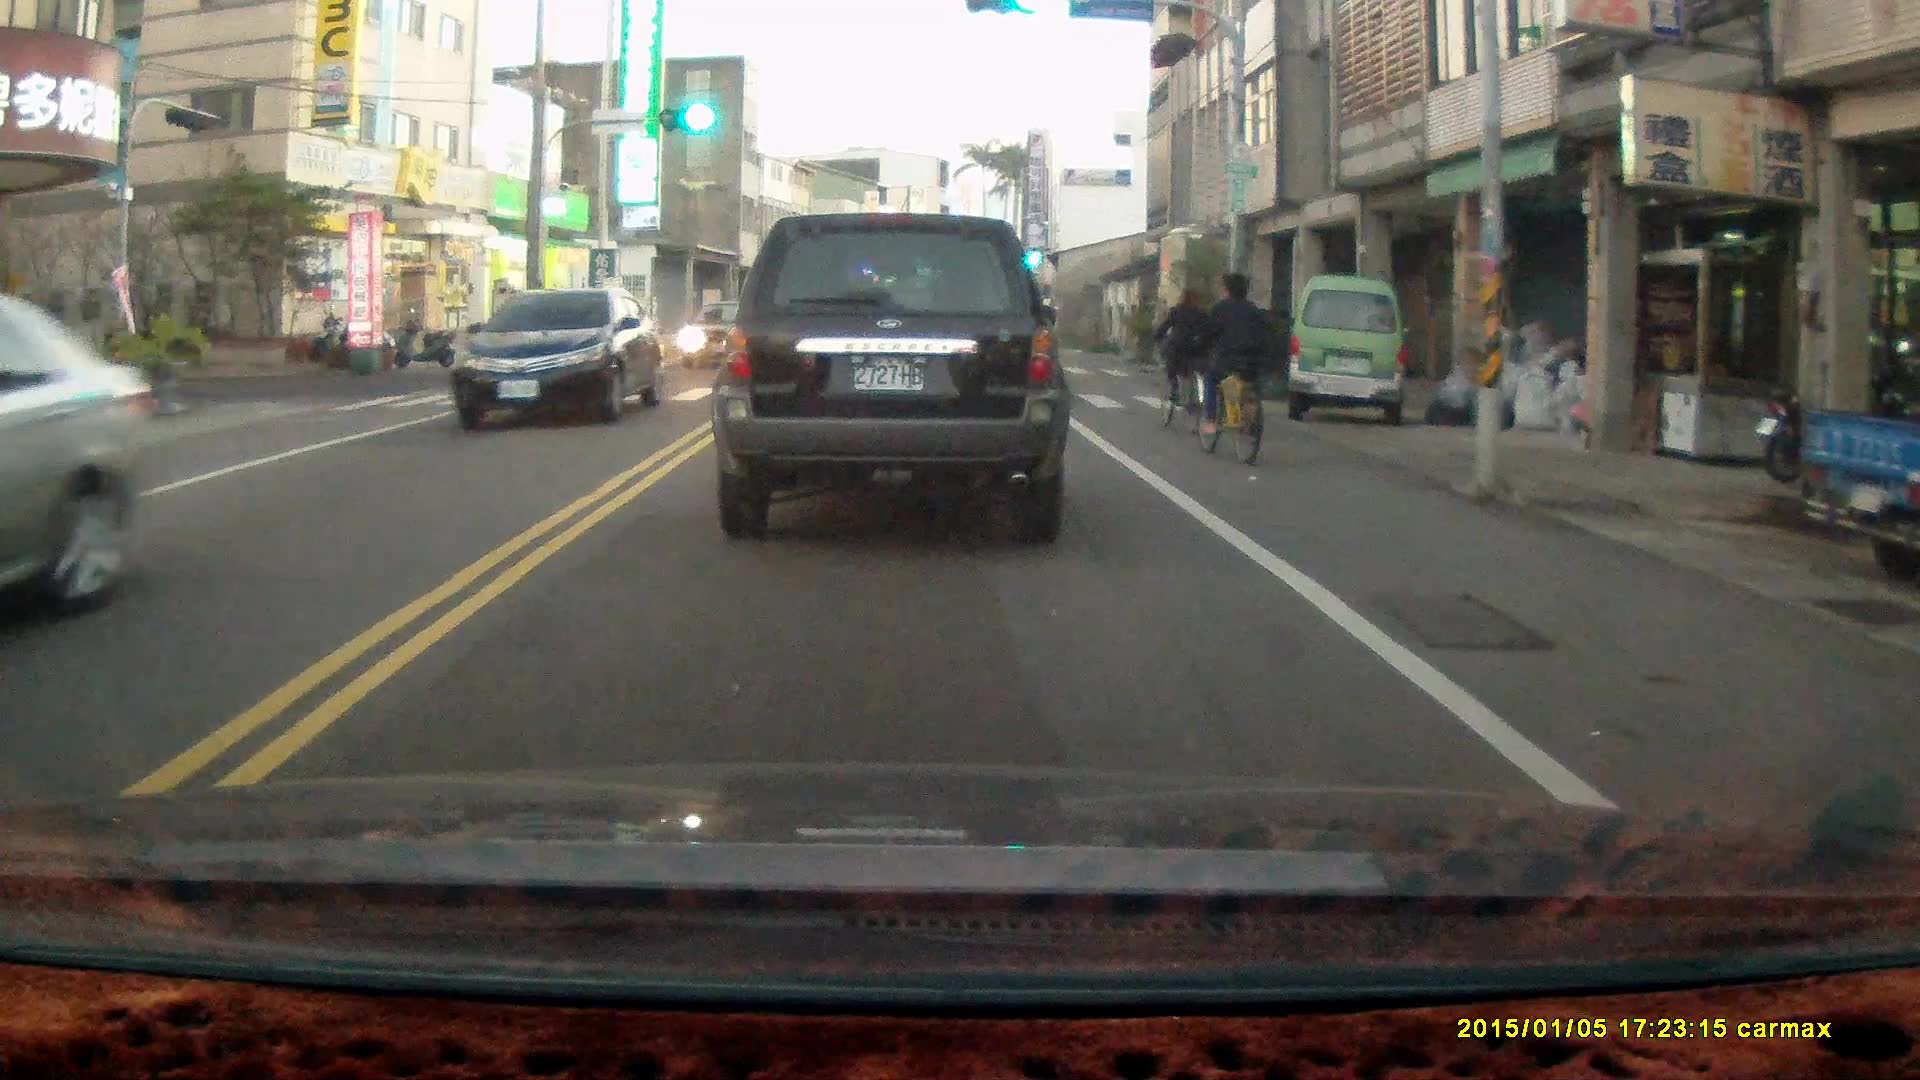rider: (1193, 268, 1268, 463), (1149, 279, 1215, 437)
vehicle: (716, 212, 1074, 541), (1, 292, 157, 646), (454, 282, 667, 432), (1287, 274, 1409, 429), (681, 299, 777, 373)
